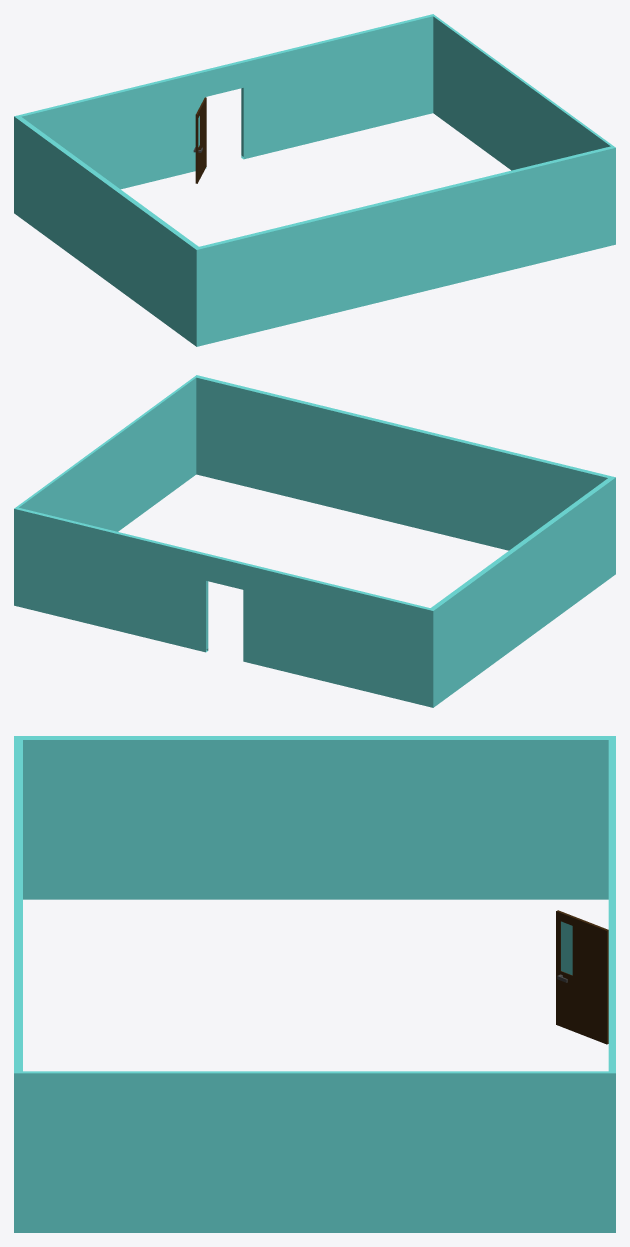
Rendered from BigRoom.FBX.
3 renders of one model, top to bottom at view 1: azimuth 30°, elevation 25°; view 2: azimuth 150°, elevation 25°; view 3: azimuth 270°, elevation 25°, orthographic. The views are drawn at different scales.
Visible parts, largest first — view 1: Rooms12, Door11; view 2: Rooms12; view 3: Rooms12, Door11.
Boxes of the visible parts, x1,y1,x2,y2 form: Rooms12: [14, 14, 615, 346]; Door11: [193, 97, 206, 183]; Rooms12: [14, 375, 615, 707]; Rooms12: [14, 736, 615, 1232]; Door11: [556, 910, 608, 1044].
Size of the model in its own units: 39.91 by 8.81 by 30.11.
